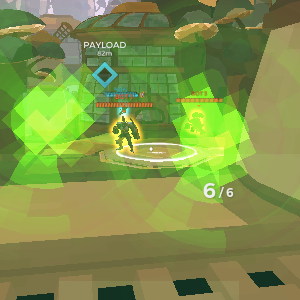model: (110, 114, 142, 154), (184, 110, 204, 138)
